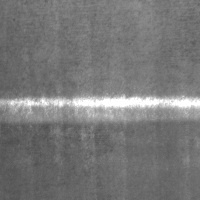scratches: (0, 94, 199, 123)
